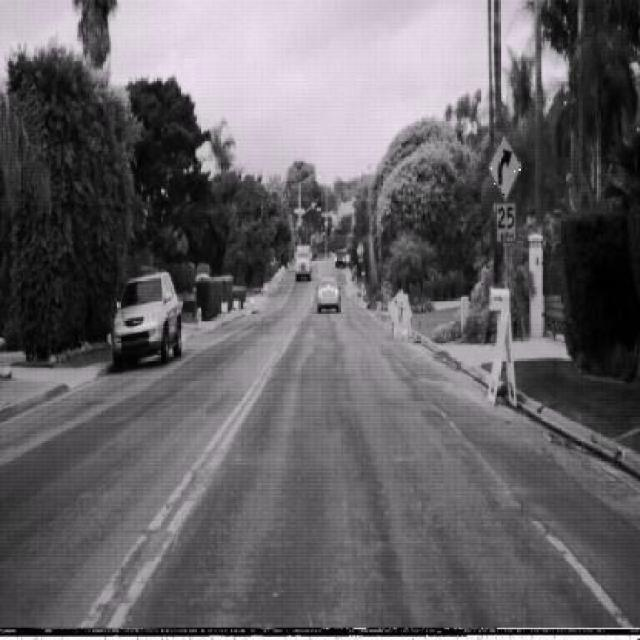curveRight: (488, 130, 522, 200)
